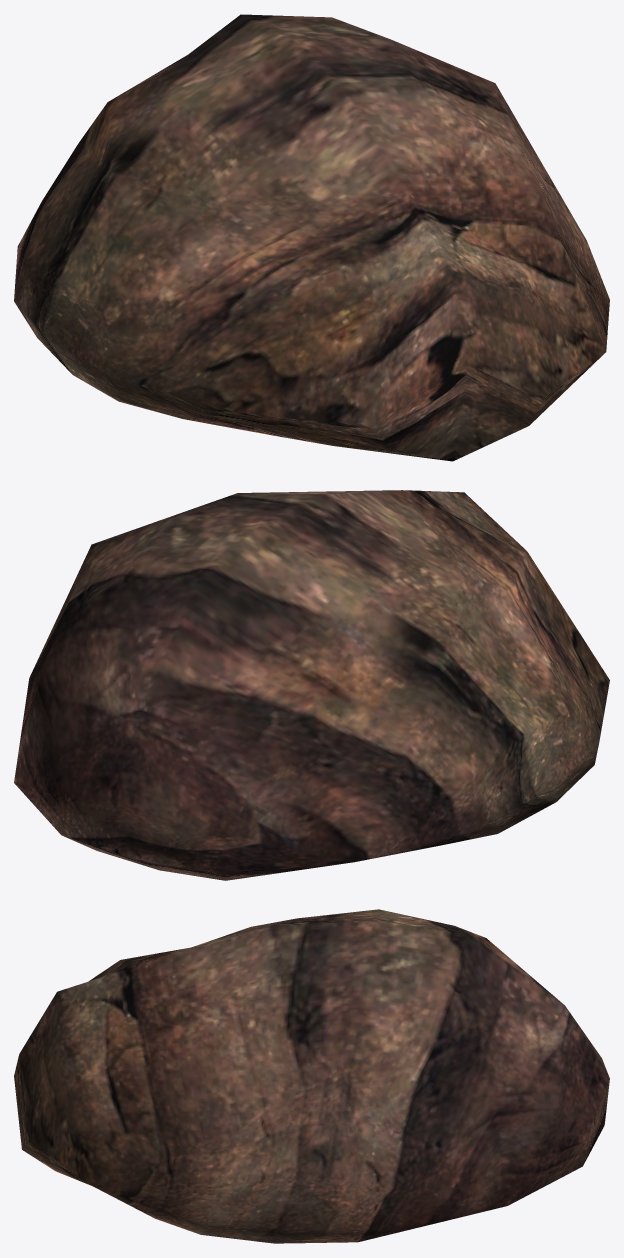
Rendered from stone_05.FBX.
3 views of the same model, one above another, from view 1: azimuth 30°, elevation 25°; view 2: azimuth 150°, elevation 25°; view 3: azimuth 270°, elevation 25° (orthographic). The views are drawn at different scales.
Parts seen in each view (by area): view 1: stone_05; view 2: stone_05; view 3: stone_05.
Boxes of the visible parts, left/top/right/bottom form: stone_05: left=14, top=14, right=609, bottom=461; stone_05: left=14, top=490, right=609, bottom=880; stone_05: left=14, top=909, right=609, bottom=1243.
Bounding box in the file's own units: 2.81 × 1.51 × 3.32.
